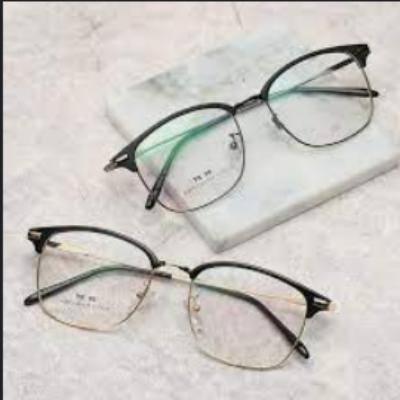glasses: (103, 39, 388, 225), (20, 222, 339, 376)
